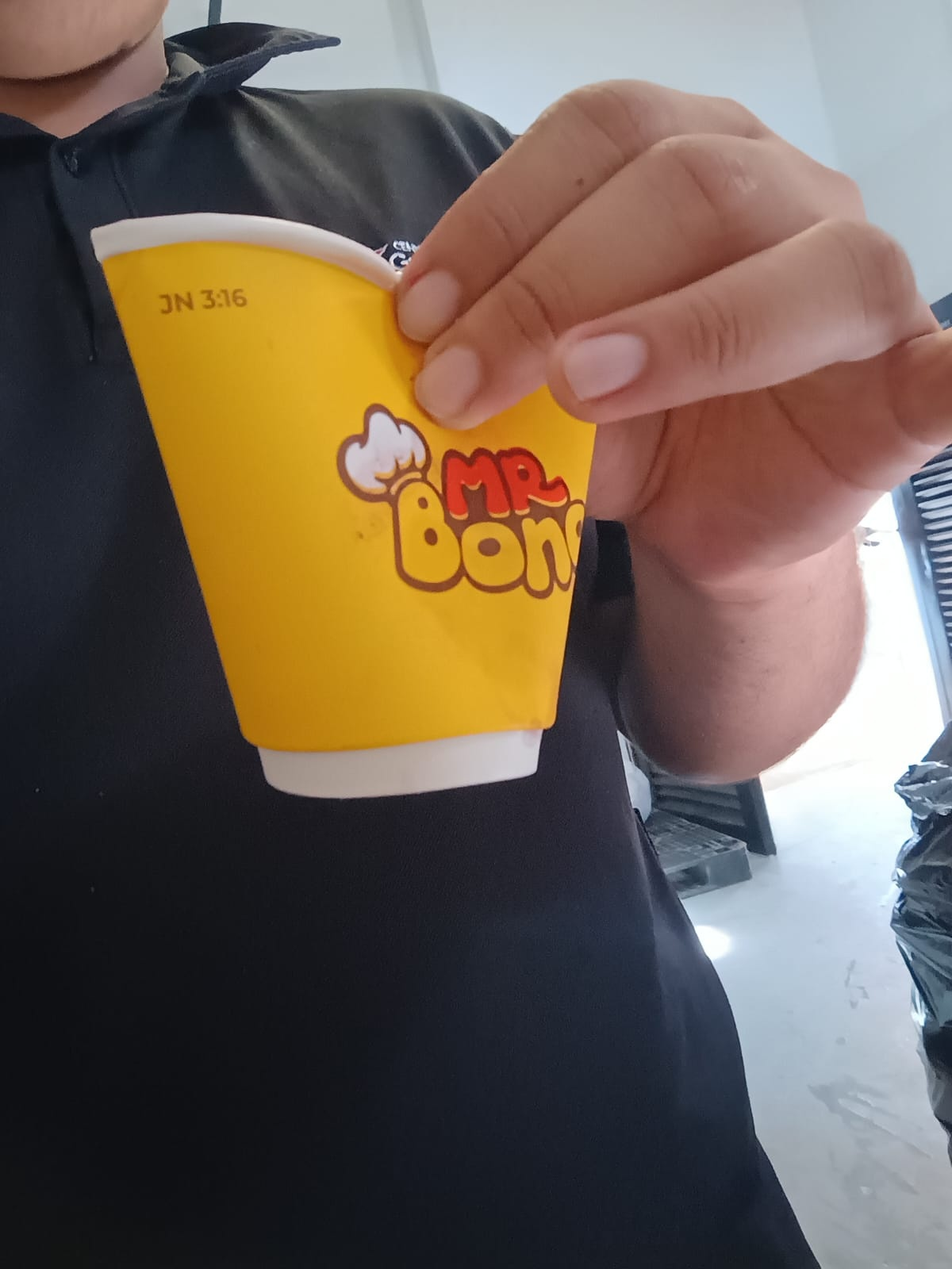Carton: (89, 212, 600, 798)
